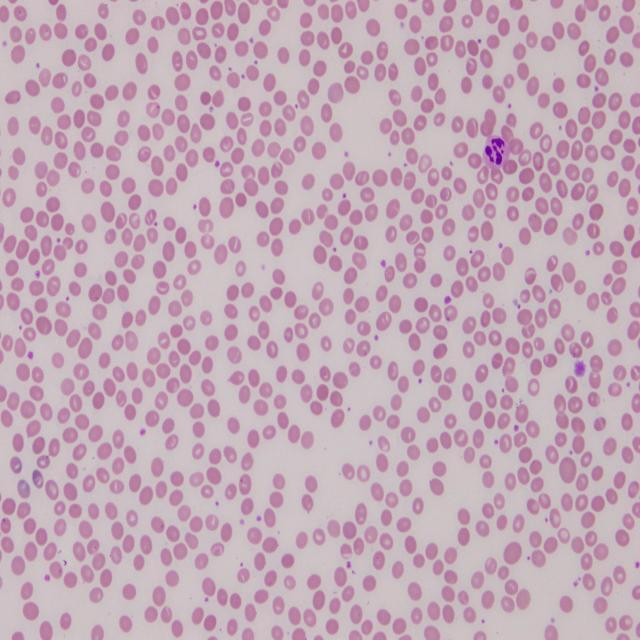cell: (482, 135, 510, 167)
